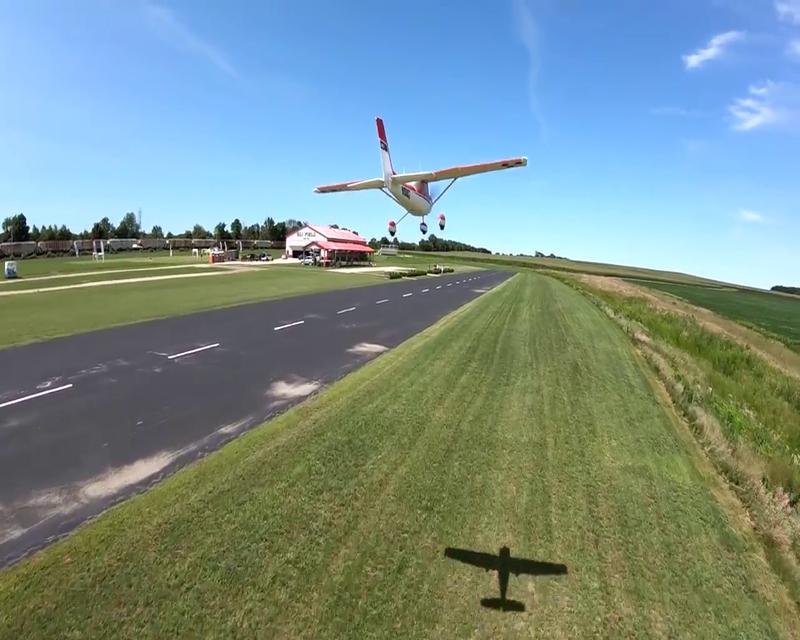UAV: (312, 115, 528, 236)
